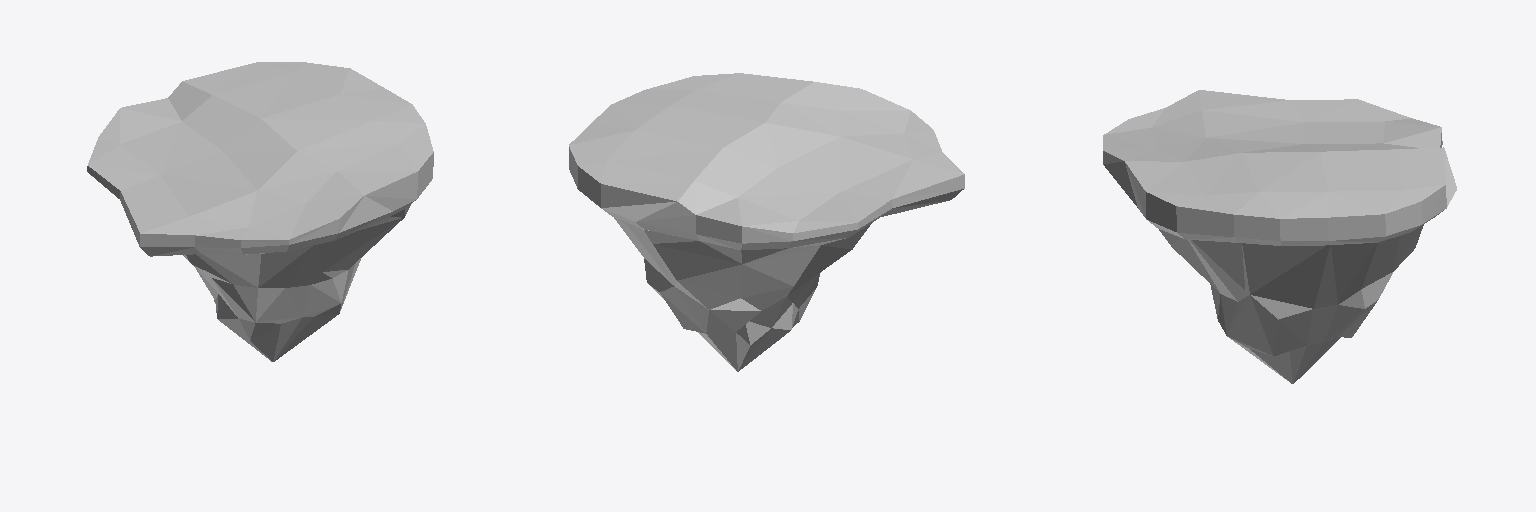
The model's file is world-beach-organic-land-obj.obj.
3 views of the same model, side by side, from view 1: azimuth 30°, elevation 25°; view 2: azimuth 150°, elevation 25°; view 3: azimuth 270°, elevation 25° (orthographic).
Visible parts, largest first — view 1: Island_Grass.016; view 2: Island_Grass.016; view 3: Island_Grass.016.
Part boxes in pixels (bbox=[...]): Island_Grass.016: bbox=[87, 62, 433, 361]; Island_Grass.016: bbox=[569, 73, 964, 371]; Island_Grass.016: bbox=[1103, 90, 1456, 383].
Size of the model in its own units: 22.66 by 16.23 by 22.26.